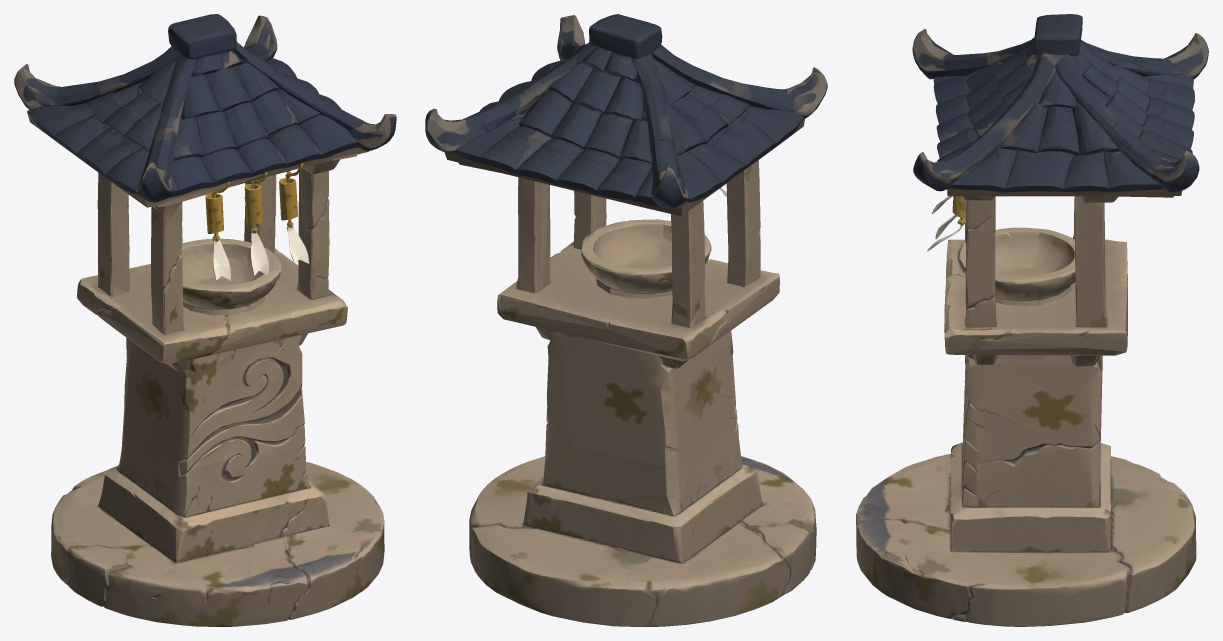
Rendered from wind-shrine.glb.
3 views of the same model, side by side, from view 1: azimuth 30°, elevation 25°; view 2: azimuth 150°, elevation 25°; view 3: azimuth 270°, elevation 25° (orthographic). The views are drawn at different scales.
Size of the model in its own units: 1.1 by 1.9 by 1.14.
1 material, 1 textured.
